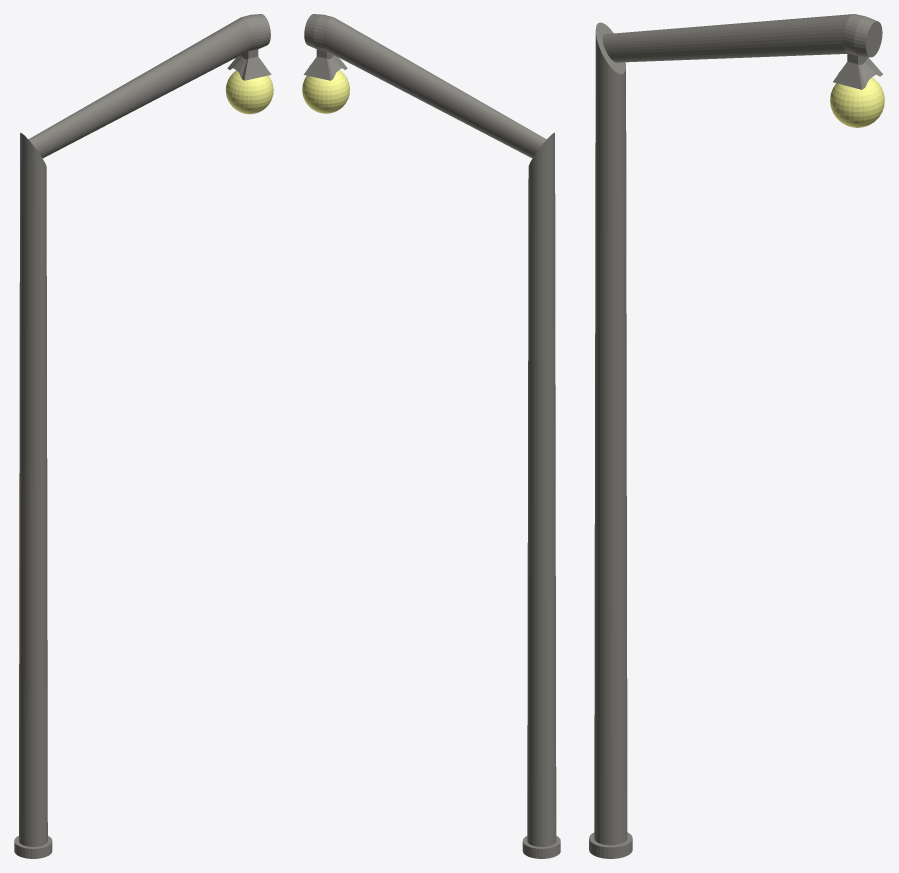
Rendered from StreetLight.fbx.
3 renders of one model, left to right at view 1: azimuth 30°, elevation 25°; view 2: azimuth 150°, elevation 25°; view 3: azimuth 330°, elevation 25°, orthographic. The views are drawn at different scales.
Visible parts, largest first — view 1: StreetLight; view 2: StreetLight; view 3: StreetLight.
Boxes of the visible parts, x1,y1,x2,y2 form: StreetLight: (14, 14, 273, 858); StreetLight: (302, 14, 560, 858); StreetLight: (589, 14, 884, 858).
Bounding box in the file's own units: 25.86 × 76.24 × 4.24.
